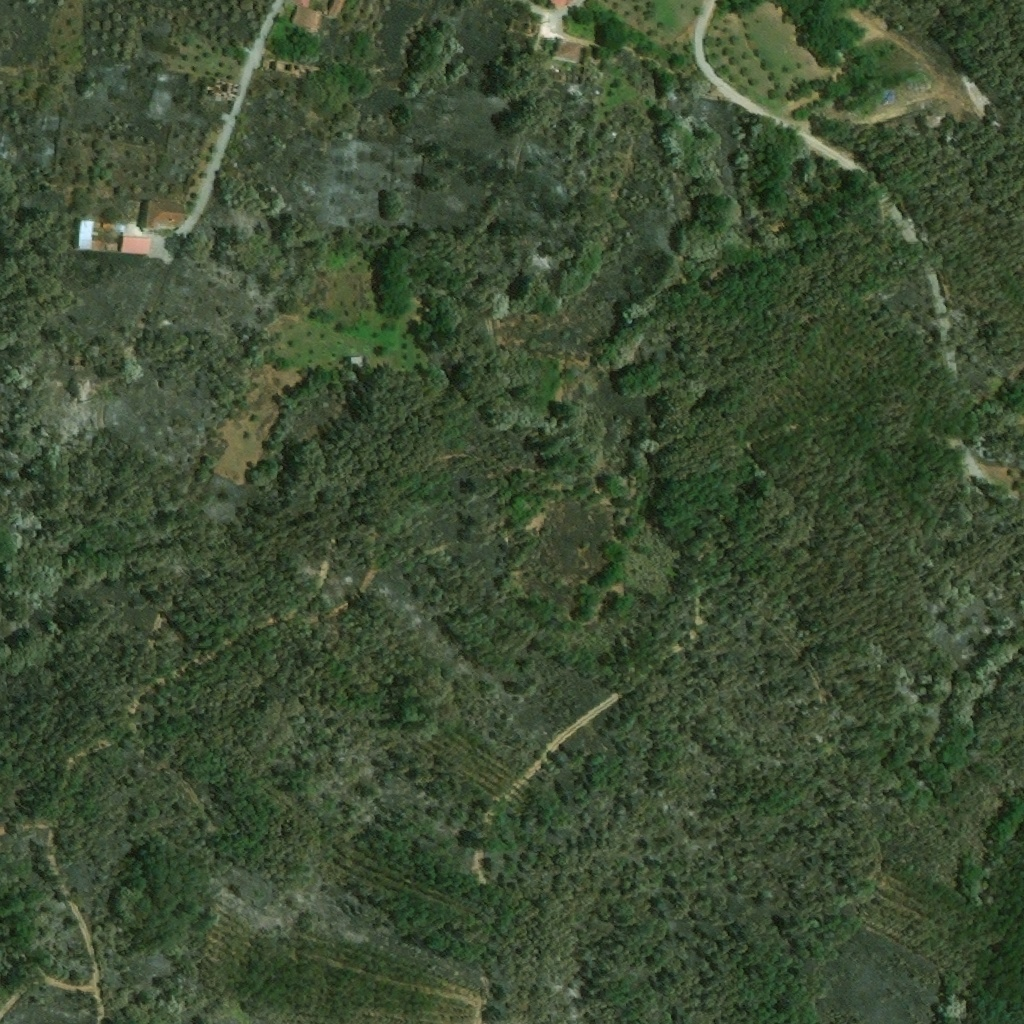0 no-damage: (144, 200, 192, 231), (553, 42, 587, 64), (72, 220, 94, 250), (121, 236, 151, 256)
3 destroyed: (202, 79, 241, 100)
4 un-classified: (327, 0, 349, 17), (288, 0, 314, 7)
